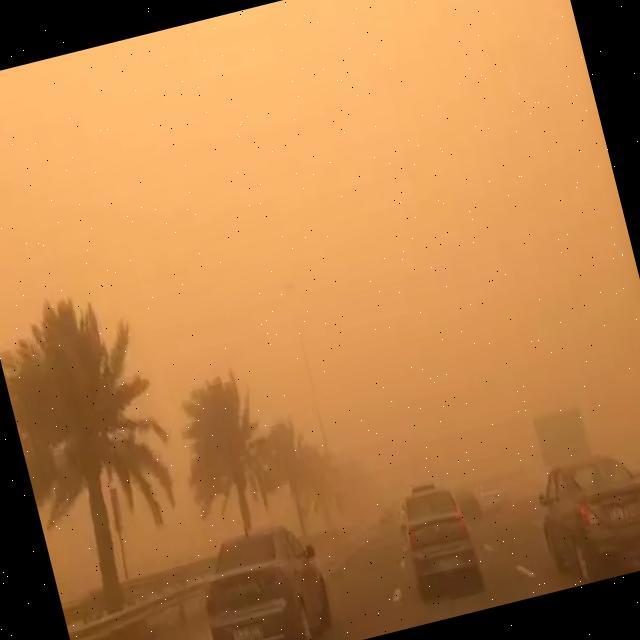car: (188, 521, 332, 640), (525, 441, 640, 589), (390, 478, 480, 592), (474, 479, 504, 514), (456, 484, 482, 518)
